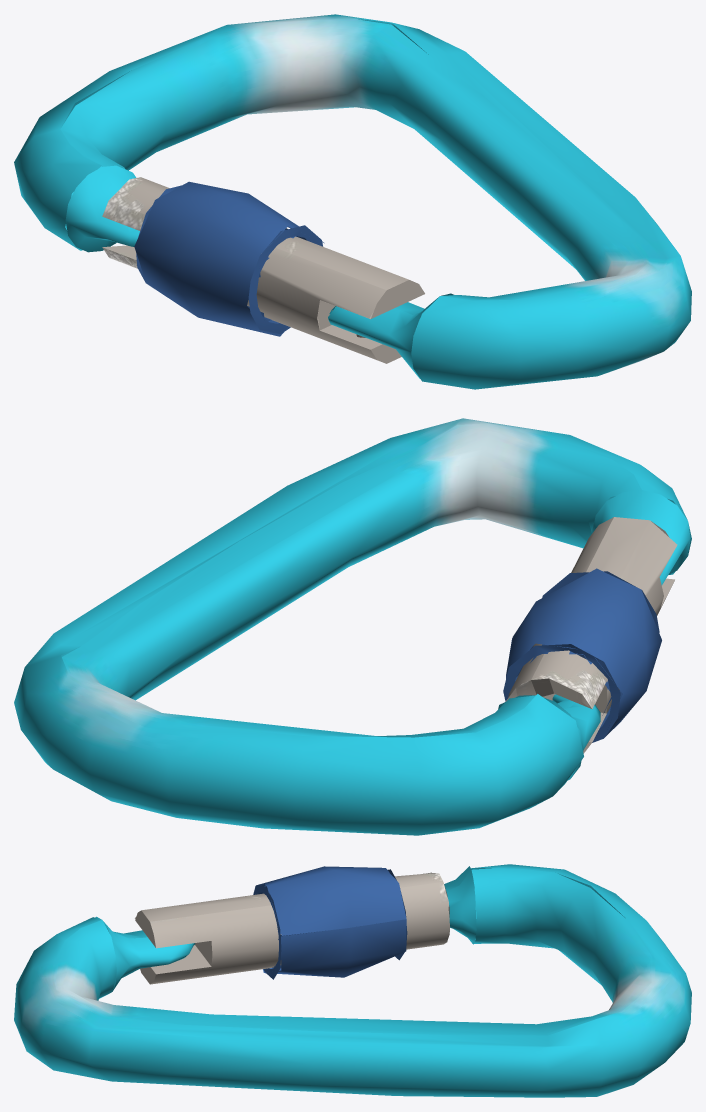
Rendered from climbing_carabiner.glb.
3 renders of one model, top to bottom at view 1: azimuth 30°, elevation 25°; view 2: azimuth 150°, elevation 25°; view 3: azimuth 270°, elevation 25°, orthographic. The views are drawn at different scales.
Visible parts, largest first — view 1: Object_4, Object_2, Object_3; view 2: Object_4, Object_2, Object_3; view 3: Object_4, Object_2, Object_3.
Boxes of the visible parts, x1,y1,x2,y2 form: Object_4: [14, 14, 691, 389]; Object_2: [134, 181, 324, 336]; Object_3: [102, 177, 424, 363]; Object_4: [14, 418, 691, 835]; Object_2: [503, 568, 661, 742]; Object_3: [505, 517, 677, 753]; Object_4: [14, 864, 691, 1097]; Object_2: [253, 866, 407, 979]; Object_3: [135, 872, 449, 984].
Bounding box in the file's own units: 6.8 × 1.73 × 10.24.
3 materials, 3 textured.
